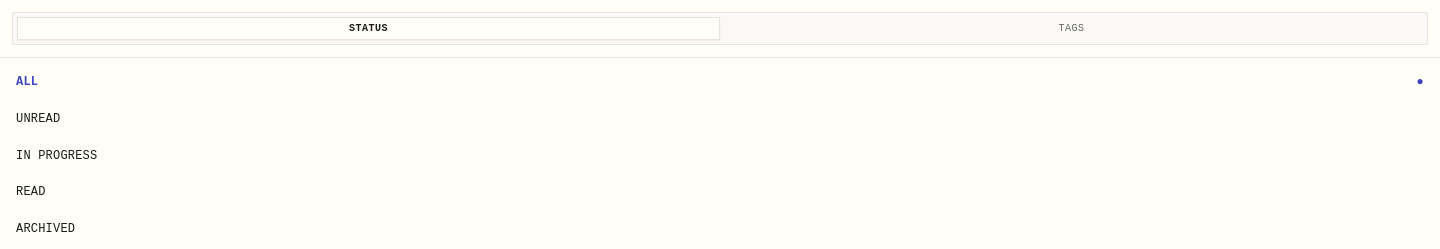
Test: FilterDropdownContent › filters tag list based on search input
# Go to Tags tab
Click the button "Tags".
click(1072, 28)  # box [720,17,1423,40]
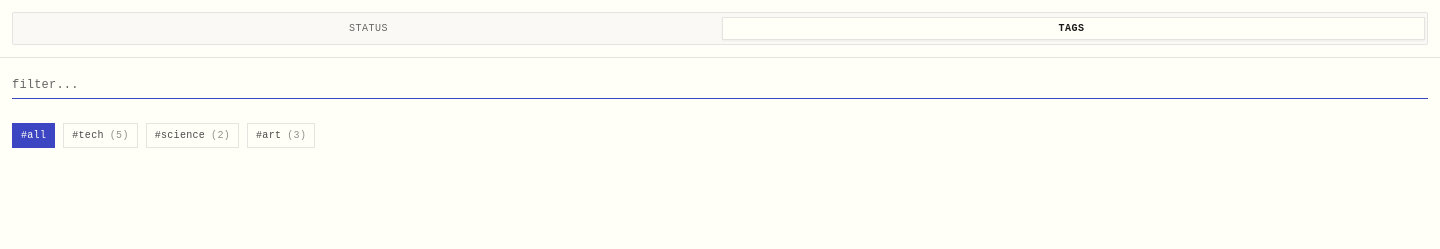
Type "sci" into the field with placeholder "FILTER...".
click(720, 86); type("sci")  # box [12,73,1428,99]
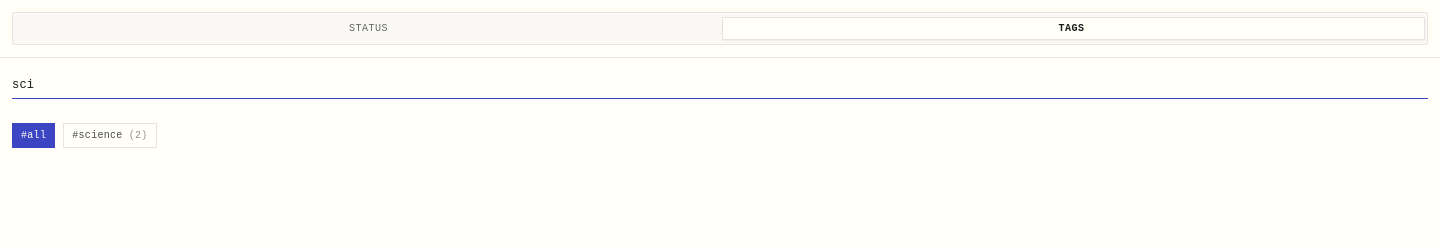
Expected: the text "#science" is shown, [72,128,123,143]
Expected: the button "#art" is gone
